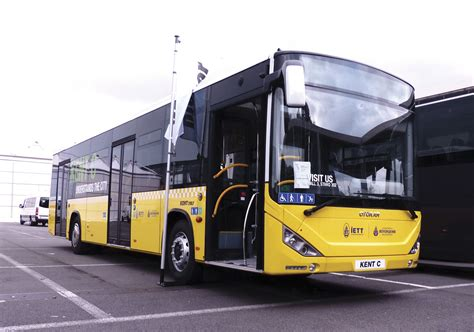bus: (48, 58, 423, 279)
